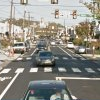crosswalk: (0, 66, 100, 73), (16, 56, 87, 60)
